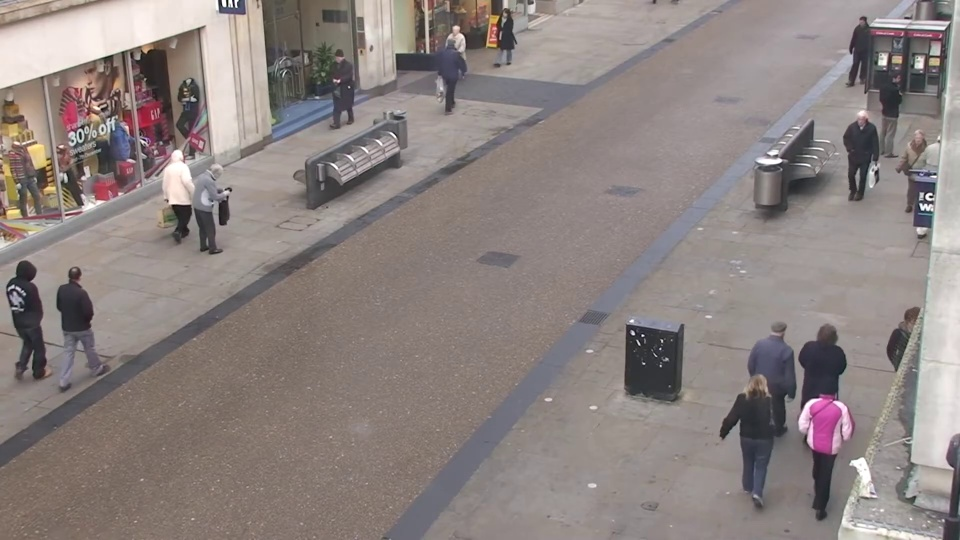pedestrian: (798, 357, 858, 518), (879, 304, 940, 453), (725, 357, 782, 516), (797, 312, 852, 460), (8, 250, 70, 379), (756, 304, 809, 450), (65, 254, 123, 384), (911, 124, 959, 227), (888, 126, 934, 228), (200, 158, 242, 263), (167, 142, 208, 242), (837, 111, 876, 207), (872, 67, 911, 154), (840, 16, 873, 89), (323, 49, 351, 125), (442, 34, 469, 107), (440, 23, 465, 92), (491, 7, 515, 73)
